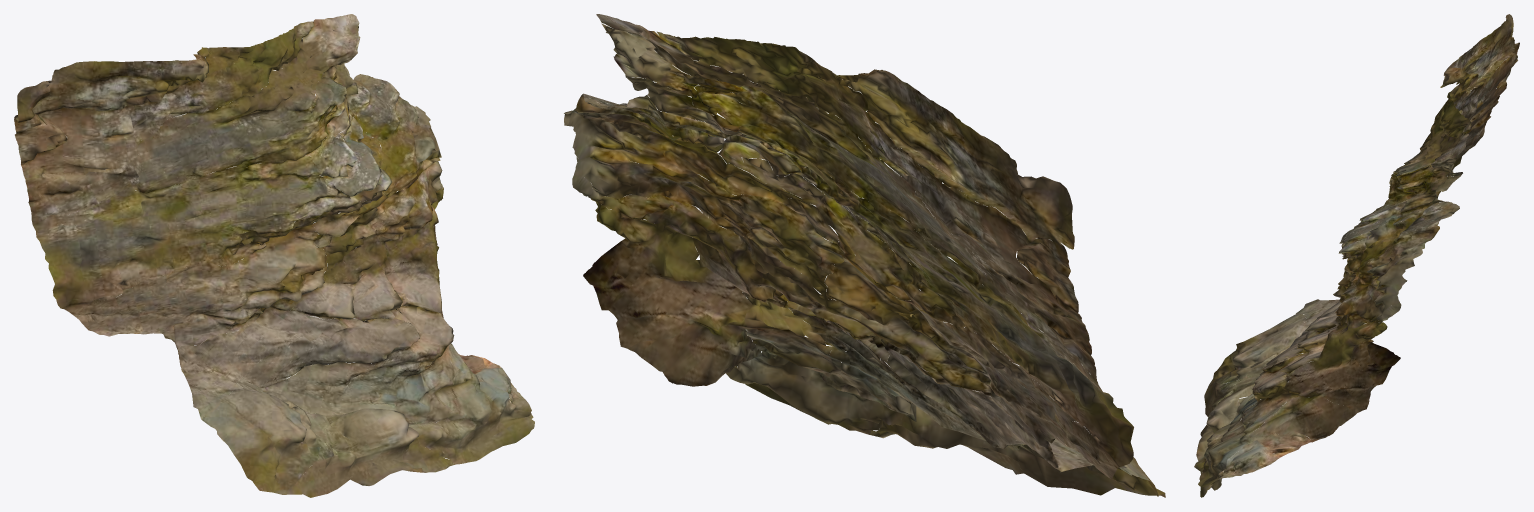
File: rock_face_02.glb
The picture shows the model from 3 angles, left to right: view 1: azimuth 30°, elevation 25°; view 2: azimuth 150°, elevation 25°; view 3: azimuth 270°, elevation 25°; orthographic projection. The views are drawn at different scales.
Visible parts, largest first — view 1: rock_face_02; view 2: rock_face_02; view 3: rock_face_02.
Boxes of the visible parts, x1,y1,x2,y2 form: rock_face_02: (14, 14, 534, 497); rock_face_02: (564, 14, 1165, 497); rock_face_02: (1194, 14, 1519, 497).
Size of the model in its own units: 2.71 by 2.47 by 2.13.
Materials: 1 (1 with a texture image).
